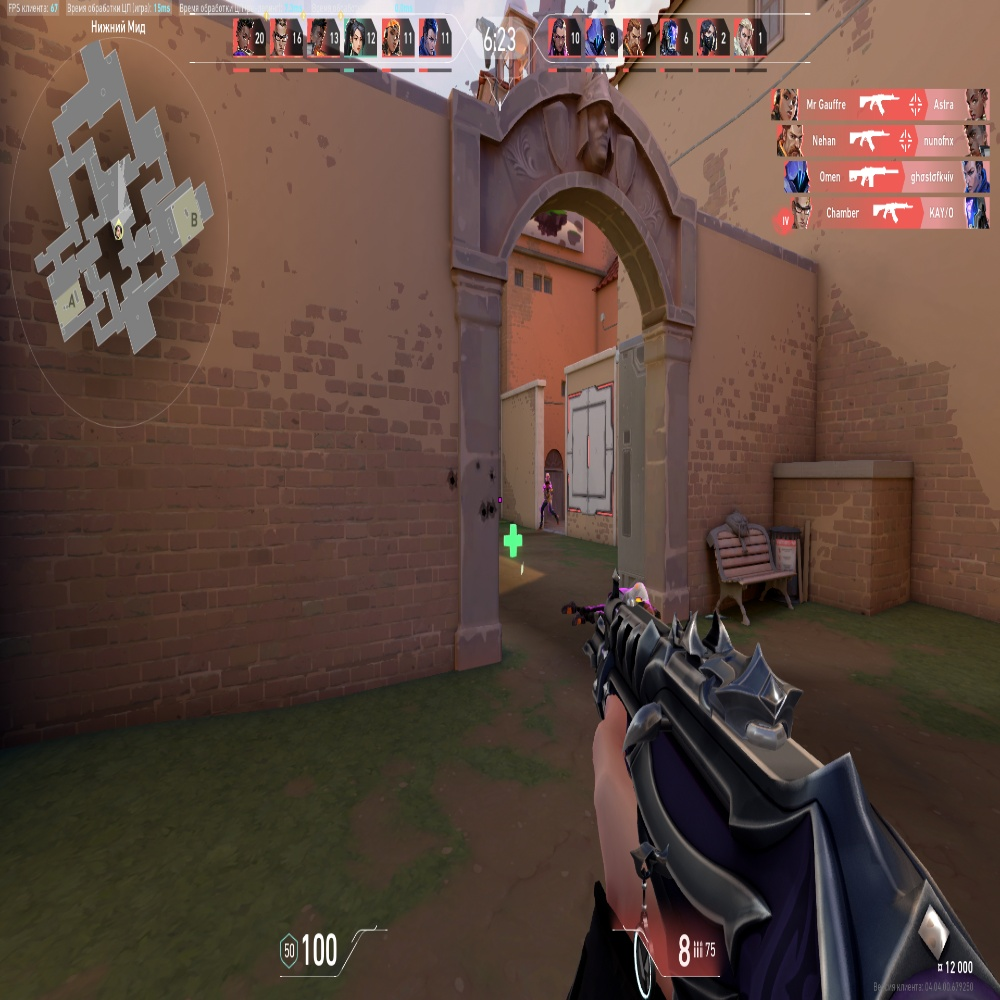body: (544, 483, 552, 502)
head: (545, 473, 550, 482)
